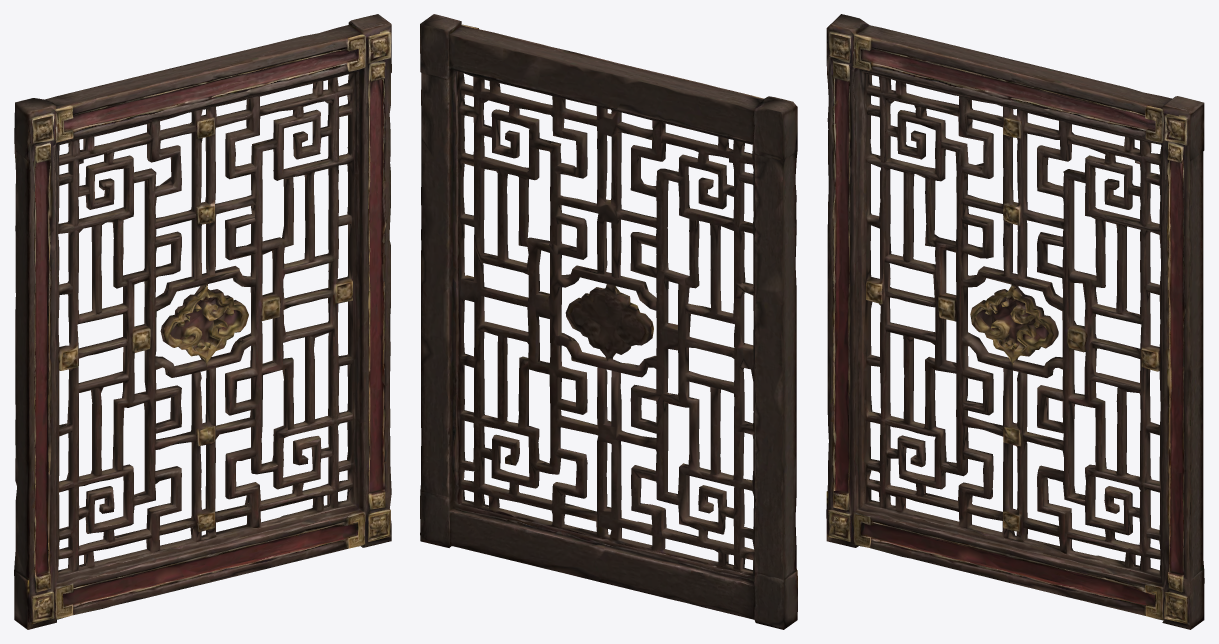
File: lattice.glb
The picture shows the model from 3 angles, left to right: view 1: azimuth 30°, elevation 25°; view 2: azimuth 150°, elevation 25°; view 3: azimuth 330°, elevation 25°; orthographic projection.
Visible parts, largest first — view 1: tripo_node_bce63236-8b8e-42d1-867a-0bbaf01f7194; view 2: tripo_node_bce63236-8b8e-42d1-867a-0bbaf01f7194; view 3: tripo_node_bce63236-8b8e-42d1-867a-0bbaf01f7194.
Boxes of the visible parts, box(x1,y1,x2,y2) form: tripo_node_bce63236-8b8e-42d1-867a-0bbaf01f7194: box(14, 14, 391, 629); tripo_node_bce63236-8b8e-42d1-867a-0bbaf01f7194: box(420, 14, 797, 629); tripo_node_bce63236-8b8e-42d1-867a-0bbaf01f7194: box(826, 14, 1204, 629).
Size of the model in its own units: 0.7193 by 0.9767 by 0.0578.
Materials: 1 (1 with a texture image).
